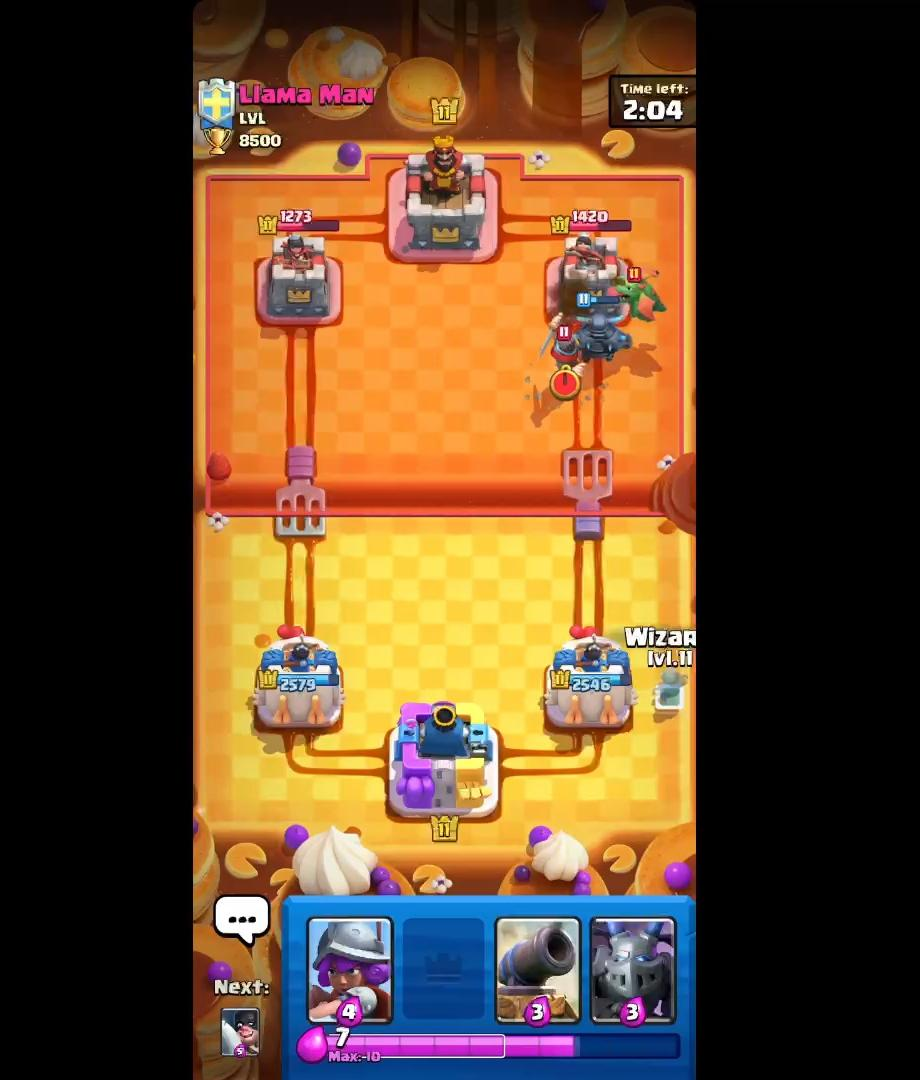Baby Dragon: (609, 263, 671, 329)
